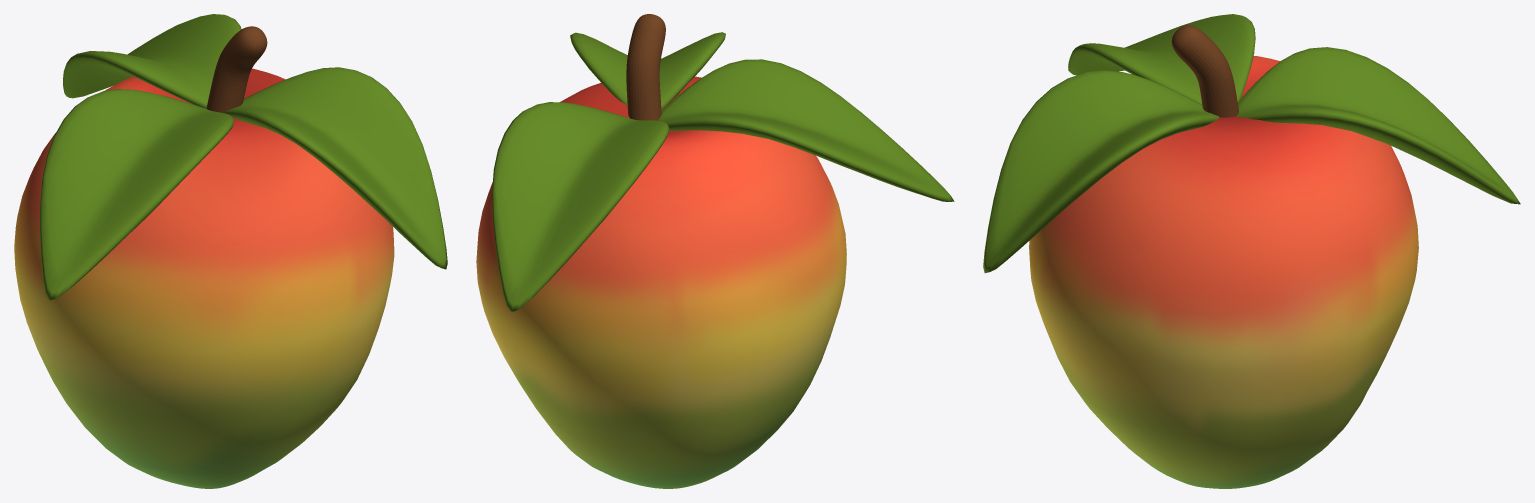
Rendered from WoompaFruit.fbx.
The picture shows the model from 3 angles, left to right: view 1: azimuth 30°, elevation 25°; view 2: azimuth 150°, elevation 25°; view 3: azimuth 270°, elevation 25°; orthographic projection. The views are drawn at different scales.
Visible parts, largest first — view 1: Fruit, Leaf.001, Leaf.002, Leaf, Plane; view 2: Fruit, Leaf, Leaf.001, Leaf.002, Plane; view 3: Fruit, Leaf.002, Leaf, Leaf.001, Plane.
Boxes of the visible parts, left/top/right/bottom form: Fruit: left=14, top=68, right=394, bottom=488; Leaf.001: left=40, top=89, right=234, bottom=300; Leaf.002: left=225, top=67, right=447, bottom=269; Leaf: left=63, top=14, right=241, bottom=108; Plane: left=206, top=26, right=267, bottom=113; Fruit: left=476, top=76, right=846, bottom=488; Leaf: left=492, top=102, right=669, bottom=311; Leaf.001: left=657, top=59, right=954, bottom=201; Leaf.002: left=570, top=32, right=725, bottom=109; Plane: left=626, top=14, right=665, bottom=120; Fruit: left=1029, top=56, right=1418, bottom=488; Leaf.002: left=983, top=70, right=1219, bottom=273; Leaf: left=1237, top=47, right=1520, bottom=204; Leaf.001: left=1068, top=14, right=1255, bottom=103; Plane: left=1171, top=25, right=1238, bottom=117.
Size of the model in its own units: 234 by 256 by 270.
5 materials, 1 textured.
